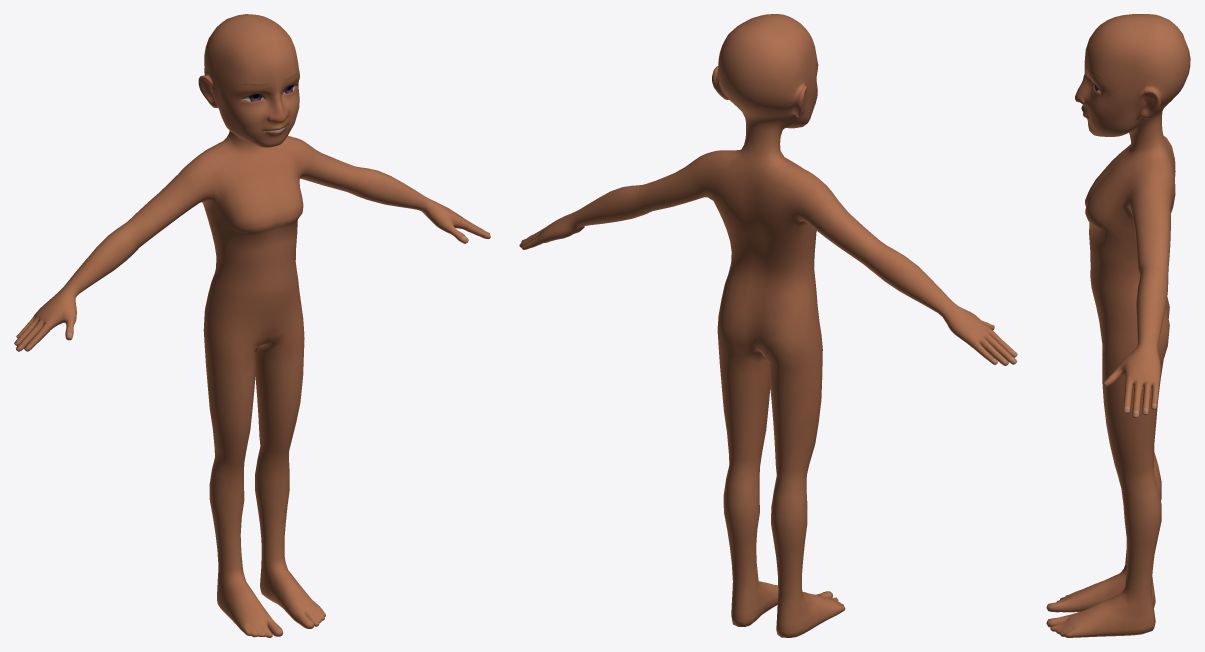
The model's file is frame_0052.glb.
The picture shows the model from 3 angles, left to right: view 1: azimuth 30°, elevation 25°; view 2: azimuth 150°, elevation 25°; view 3: azimuth 270°, elevation 25°; orthographic projection. The views are drawn at different scales.
Visible parts, largest first — view 1: frame_0052_head_geo; view 2: frame_0052_head_geo; view 3: frame_0052_head_geo.
Part boxes in pixels (x1,y1,x2,y2): frame_0052_head_geo: [14, 14, 490, 637]; frame_0052_head_geo: [519, 14, 1017, 637]; frame_0052_head_geo: [1046, 14, 1190, 637].
Size of the model in its own units: 1.28 by 1.5 by 0.3253.
Materials: 3 (3 with a texture image).
